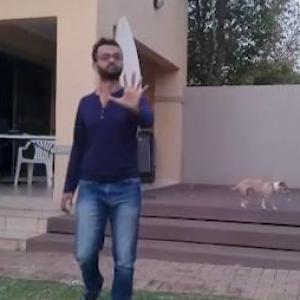follow_hand: (108, 62, 151, 114)
